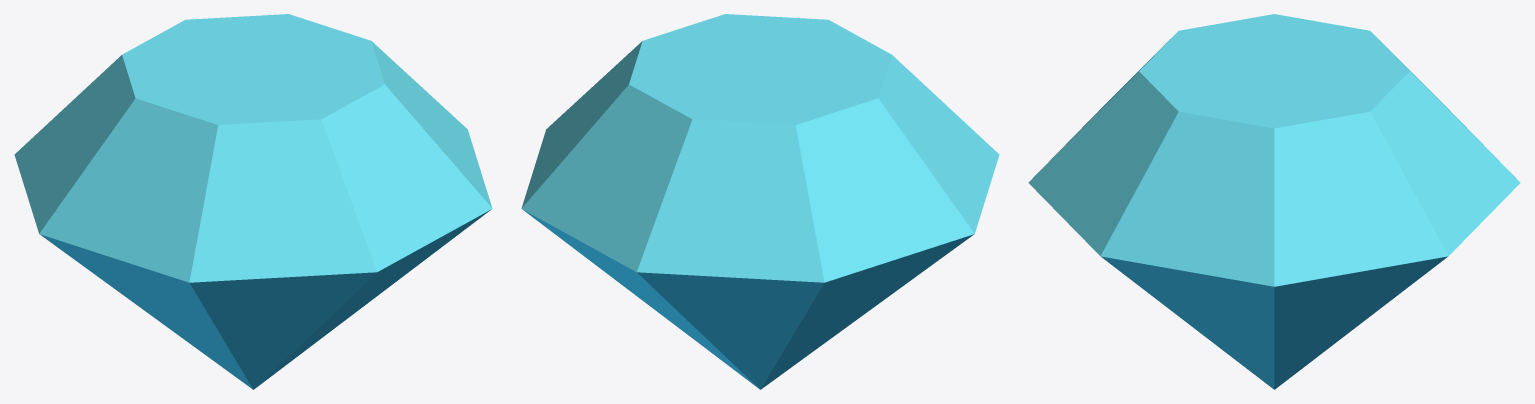
File: BlueGem.fbx
The picture shows the model from 3 angles, left to right: view 1: azimuth 30°, elevation 25°; view 2: azimuth 150°, elevation 25°; view 3: azimuth 270°, elevation 25°; orthographic projection.
Visible parts, largest first — view 1: BlueGem; view 2: BlueGem; view 3: BlueGem.
Boxes of the visible parts, box(x1,y1,x2,y2) form: BlueGem: box(14, 14, 492, 389); BlueGem: box(521, 14, 999, 389); BlueGem: box(1028, 14, 1520, 389).
Bounding box in the file's own units: 1.4 × 1 × 1.4.
Materials: 1 (1 with a texture image).
